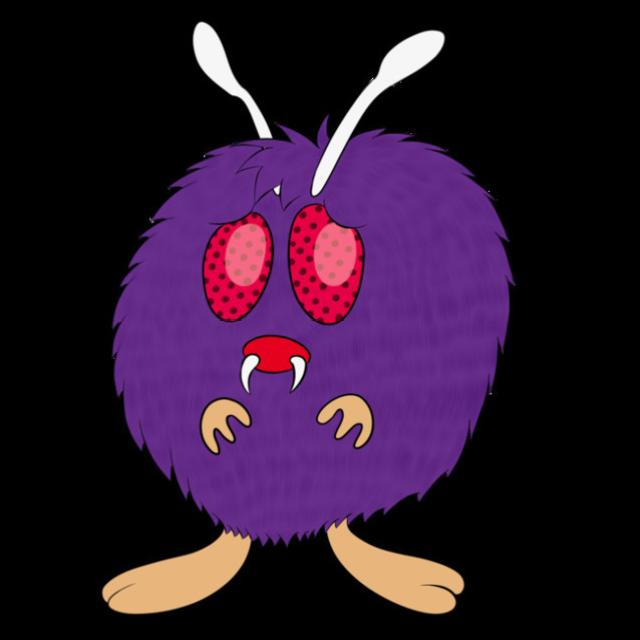Venonat: (74, 120, 554, 554)
